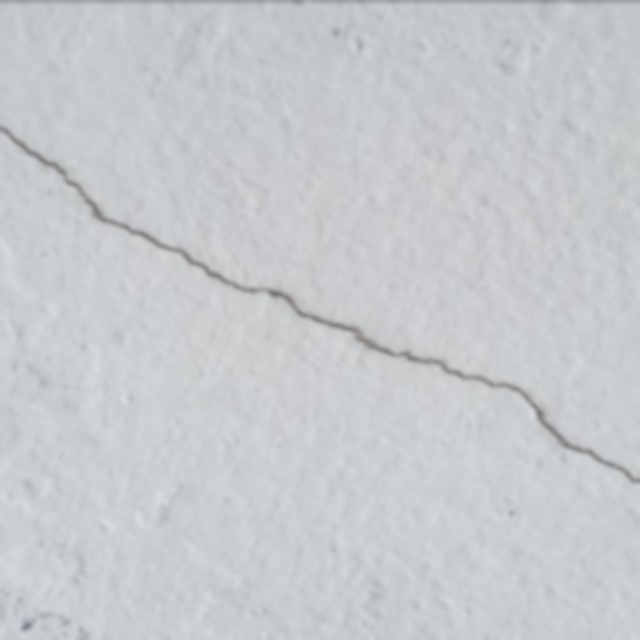SurfaceCrack: (0, 86, 639, 530)
